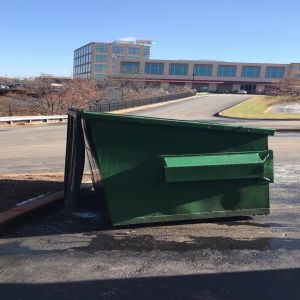Dumpster: (59, 107, 277, 230)
